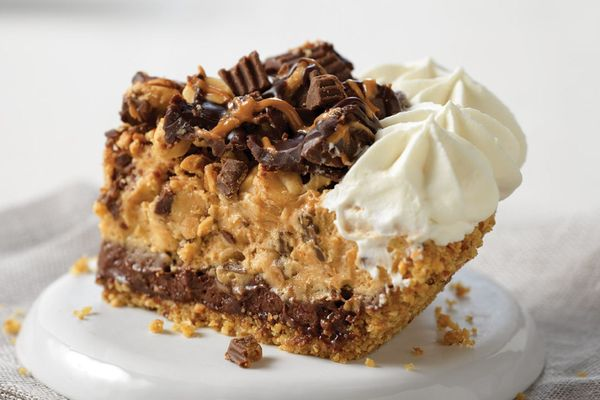sushi: (89, 36, 507, 362)
